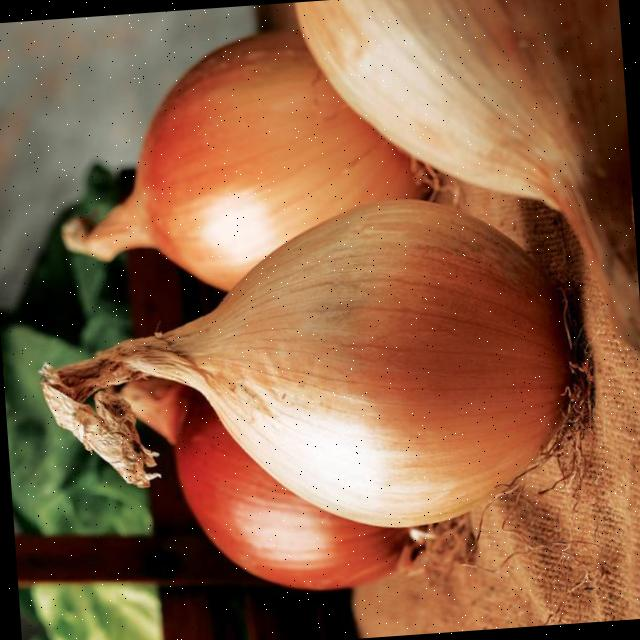Onion: (40, 198, 570, 526), (296, 0, 640, 351), (62, 28, 428, 288), (118, 376, 412, 588)
